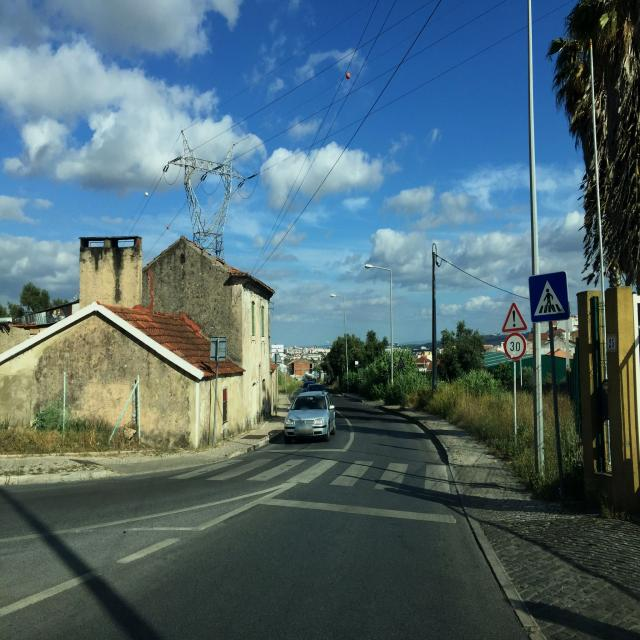car: (283, 391, 336, 444)
